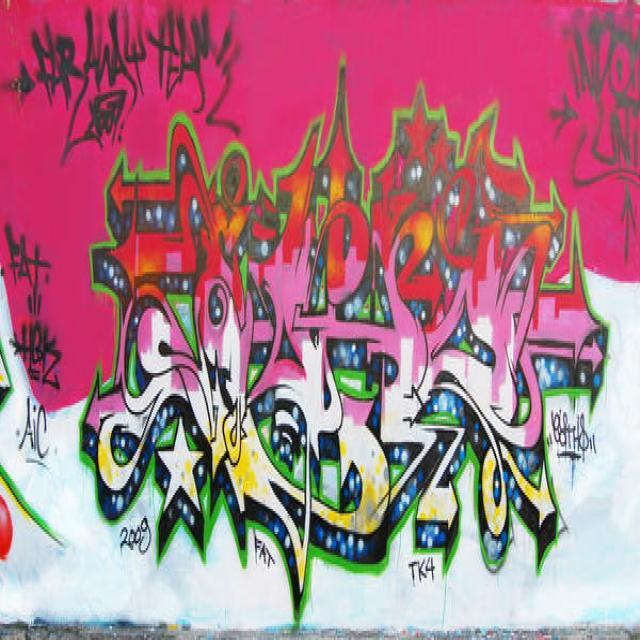-: (83, 51, 606, 614), (11, 11, 240, 157), (0, 216, 64, 564), (552, 12, 640, 258)
